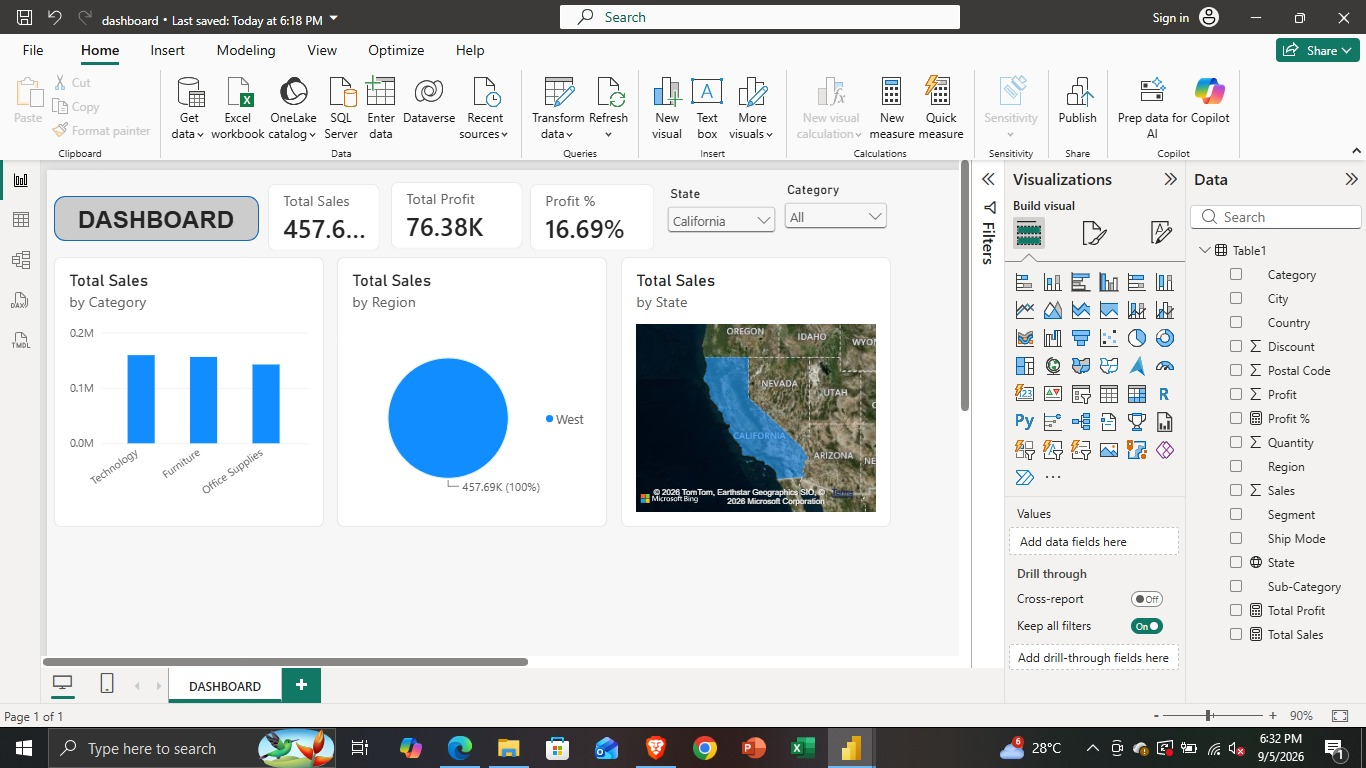

The dashboard page shown, as its layout file describes it:
{"tool":"powerbi","page":{"name":"DASHBOARD","canvas":[1920,1080],"ordinal":0},"visuals":[{"type":"cardVisual","fields":{"Data":["Table1.Total Sales"]},"box":[245.6,15.6,124,74],"z":0},{"type":"cardVisual","fields":{"Data":["Table1.Total Profit"]},"box":[382.2,13.3,146,74],"z":1},{"type":"cardVisual","fields":{"Data":["Table1.Profit %"]},"box":[536.7,15.6,138,74],"z":2},{"type":"lineClusteredColumnComboChart","fields":{"Category":["Table1.Category"],"Y":["Table1.Total Sales"]},"box":[7.3,96.4,300,300],"z":3},{"type":"pieChart","fields":{"Category":["Table1.Region"],"Y":["Table1.Total Sales"]},"box":[322.7,96.4,300,300],"z":4},{"type":"slicer","fields":{"Values":["Table1.State"]},"box":[684.4,17.8,130,72.7],"z":5},{"type":"slicer","fields":{"Values":["Table1.Category"]},"box":[814.4,13.3,123.6,75.5],"z":6},{"type":"filledMap","fields":{"Category":["Table1.State"]},"box":[638.2,96.4,300,300],"z":7},{"type":"shape","box":[7.8,28.9,227.8,50],"z":8},{"type":"textbox","box":[6.7,40,228.9,35.6],"z":9}]}

Visuals, with their boxes on the page's 1920x1080 design canvas (x1, y1, x2, y2). These are canvas units, not pixel positions in the 1366x768 screenshot, which may show the page scaled, cropped or inside an application window:
cardVisual - Table1.Total Sales: left=246, top=16, right=370, bottom=90
cardVisual - Table1.Total Profit: left=382, top=13, right=528, bottom=87
cardVisual - Table1.Profit %: left=537, top=16, right=675, bottom=90
lineClusteredColumnComboChart - Table1.Category x Table1.Total Sales: left=7, top=96, right=307, bottom=396
pieChart - Table1.Region x Table1.Total Sales: left=323, top=96, right=623, bottom=396
slicer - Table1.State: left=684, top=18, right=814, bottom=90
slicer - Table1.Category: left=814, top=13, right=938, bottom=89
filledMap - Table1.State: left=638, top=96, right=938, bottom=396
shape: left=8, top=29, right=236, bottom=79
textbox: left=7, top=40, right=236, bottom=76
